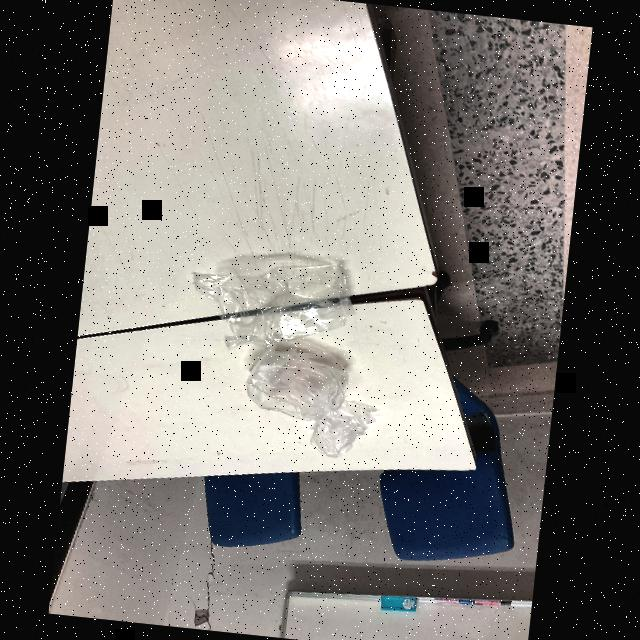plastic_bag: (190, 248, 362, 355), (238, 336, 365, 432)
scrap_plastic: (302, 408, 376, 459)
